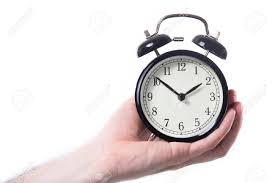alarm_clock: (133, 9, 229, 140), (139, 9, 229, 140)
